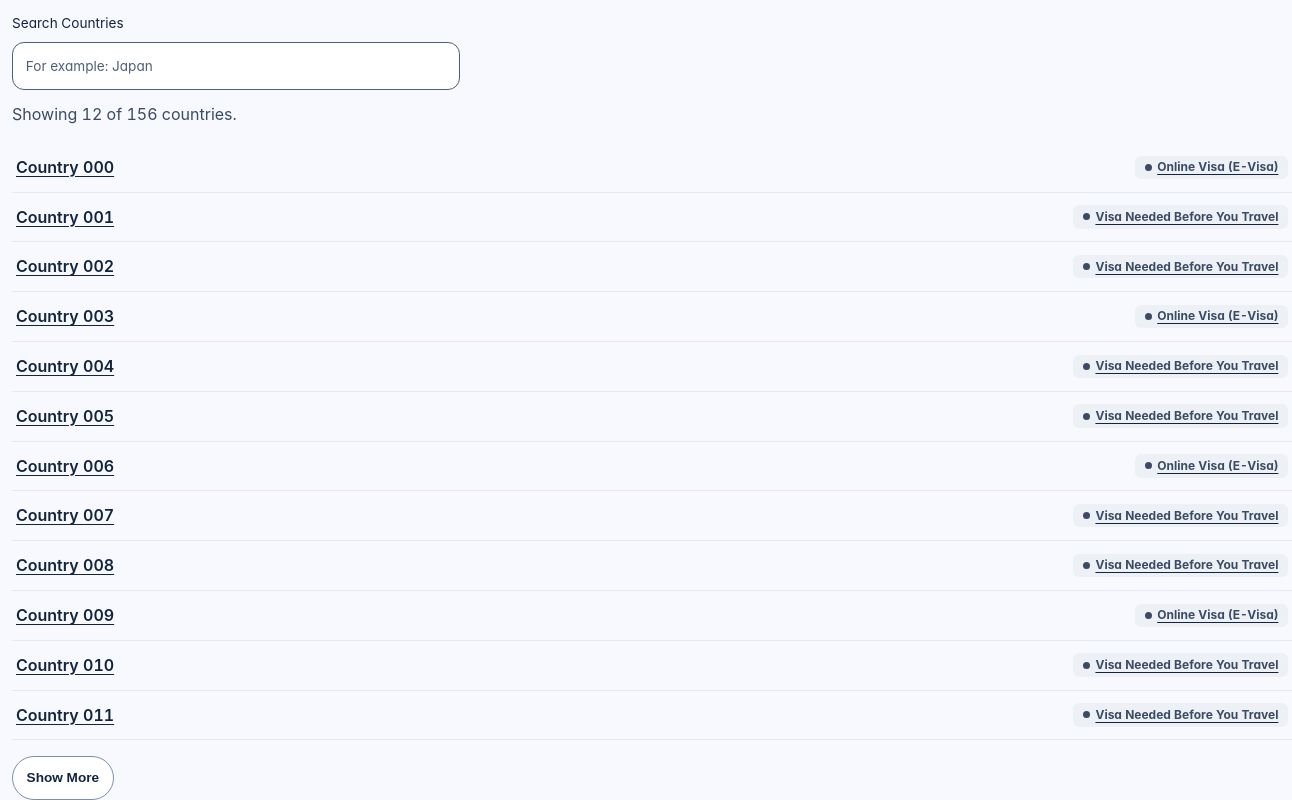
Scenario: a long country list (WP-SB8 scroll budget) › shows 12 countries with the total, then Show More adds 12 and focuses the first new one
The width and height of the screenshot is (1292, 800).
(page scrolled)
Step 1. Click the button "Show More" → coordinates (63, 778), box [12,756,114,799]
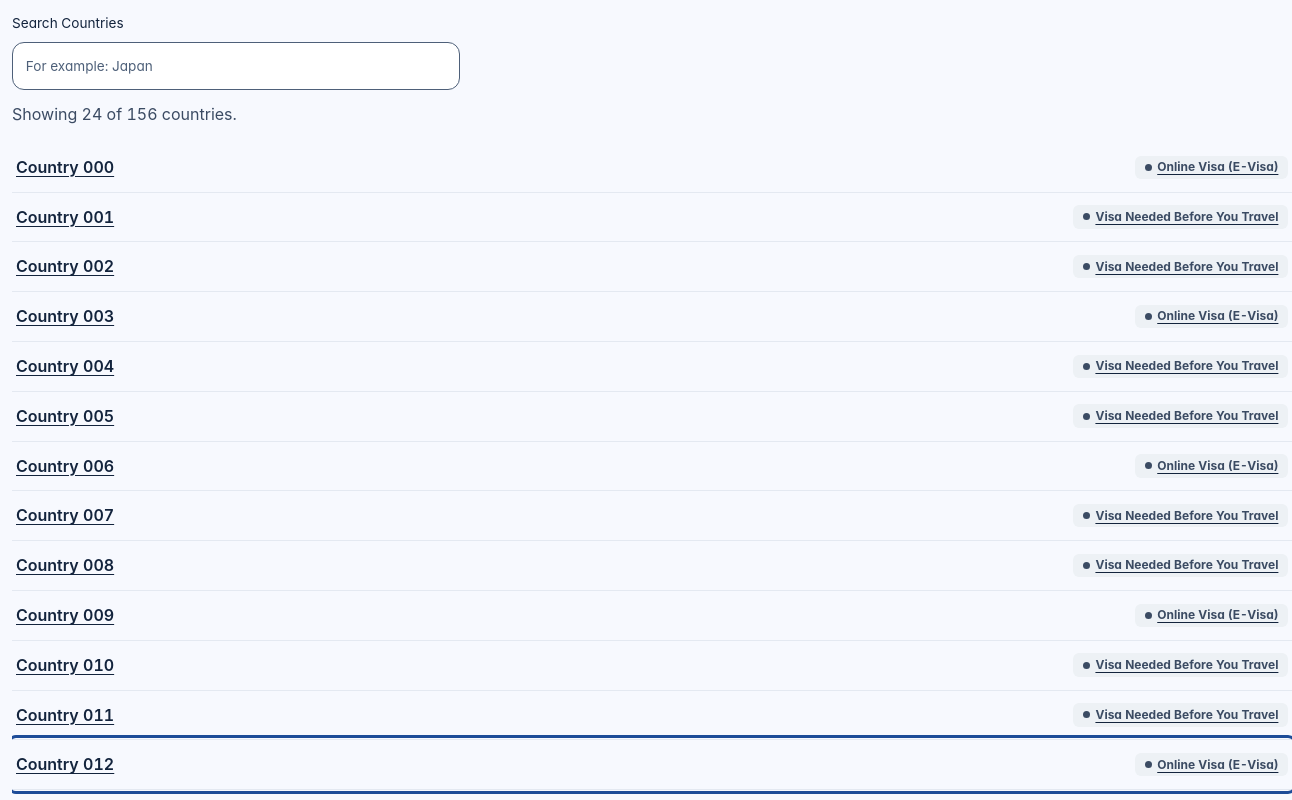
Expected: the text with class "country-count" reads "Showing 24 of 156 countries.", [12,104,237,124]
